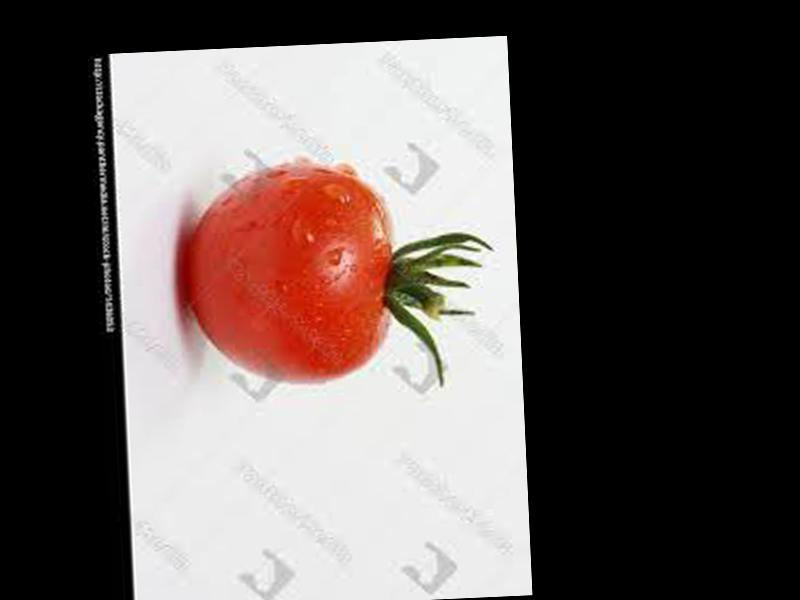Tomato: (181, 160, 394, 389)
